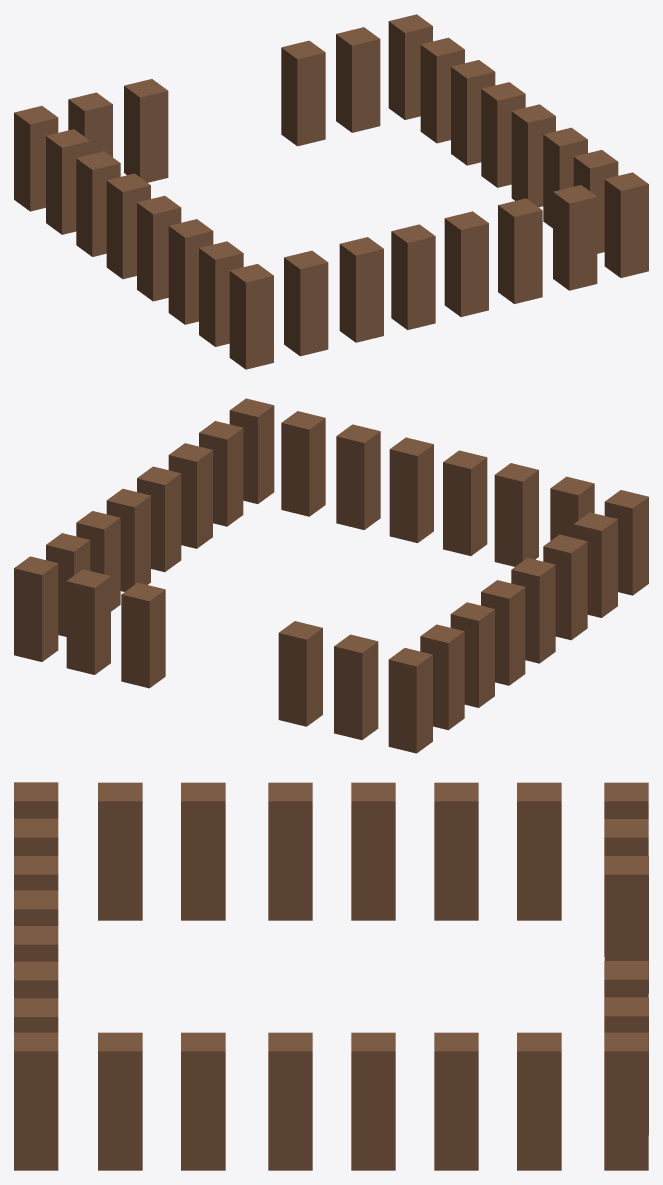
Rendered from valla.fbx.
The picture shows the model from 3 angles, top to bottom: view 1: azimuth 30°, elevation 25°; view 2: azimuth 150°, elevation 25°; view 3: azimuth 270°, elevation 25°; orthographic projection. The views are drawn at different scales.
Visible parts, largest first — view 1: Cube.174, Cube.156, Cube.133, Cube.163, Cube.162, Cube.175, Cube.176, Cube.132, Cube.154, Cube.155, Cube.171, Cube.164 (+14 smaller); view 2: Cube.174, Cube.163, Cube.154, Cube.156, Cube.134, Cube.162, Cube.171, Cube.164, Cube.161, Cube.176, Cube.155, Cube.159 (+14 smaller); view 3: Cube.164, Cube.165, Cube.166, Cube.167, Cube.168, Cube.169, Cube.170, Cube.135, Cube.153, Cube.157, Cube.158, Cube.159 (+14 smaller).
Boxes of the visible parts, x1=… form: Cube.174: x1=281, y1=40, x2=325, y2=146; Cube.156: x1=498, y1=198, x2=542, y2=303; Cube.133: x1=229, y1=264, x2=273, y2=369; Cube.163: x1=444, y1=211, x2=488, y2=316; Cube.162: x1=336, y1=27, x2=380, y2=132; Cube.175: x1=604, y1=172, x2=648, y2=277; Cube.176: x1=391, y1=224, x2=435, y2=329; Cube.132: x1=284, y1=250, x2=328, y2=356; Cube.154: x1=553, y1=185, x2=597, y2=290; Cube.155: x1=339, y1=237, x2=383, y2=342; Cube.171: x1=124, y1=79, x2=168, y2=182; Cube.164: x1=388, y1=14, x2=432, y2=119; Cube.174: x1=121, y1=582, x2=165, y2=688; Cube.163: x1=389, y1=437, x2=433, y2=543; Cube.154: x1=281, y1=411, x2=325, y2=516; Cube.156: x1=336, y1=424, x2=380, y2=529; Cube.134: x1=388, y1=648, x2=432, y2=753; Cube.162: x1=66, y1=569, x2=110, y2=674; Cube.171: x1=278, y1=621, x2=322, y2=726; Cube.164: x1=14, y1=556, x2=58, y2=661; Cube.161: x1=334, y1=634, x2=378, y2=739; Cube.176: x1=443, y1=450, x2=487, y2=555; Cube.155: x1=494, y1=463, x2=538, y2=566; Cube.159: x1=543, y1=534, x2=587, y2=640; Cube.164: x1=604, y1=1032, x2=648, y2=1170; Cube.165: x1=517, y1=1032, x2=561, y2=1170; Cube.166: x1=434, y1=1032, x2=478, y2=1170; Cube.167: x1=351, y1=1032, x2=395, y2=1170; Cube.168: x1=268, y1=1032, x2=312, y2=1170; Cube.169: x1=181, y1=1032, x2=225, y2=1170; Cube.170: x1=98, y1=1032, x2=142, y2=1170; Cube.135: x1=517, y1=782, x2=561, y2=920; Cube.153: x1=434, y1=782, x2=478, y2=920; Cube.157: x1=351, y1=782, x2=395, y2=920; Cube.158: x1=268, y1=782, x2=312, y2=920; Cube.159: x1=181, y1=782, x2=225, y2=920.
Size of the model in its own units: 385 by 79.6 by 385.
